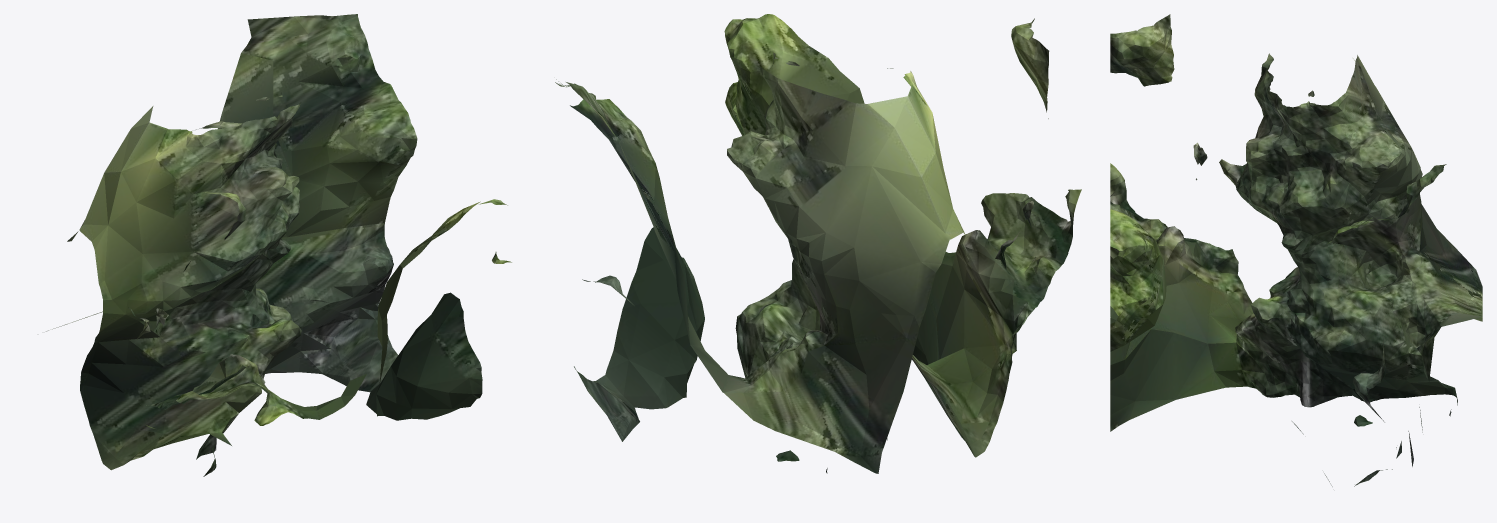
3 views of the same model, side by side, from view 1: azimuth 30°, elevation 25°; view 2: azimuth 150°, elevation 25°; view 3: azimuth 270°, elevation 25° (orthographic). The views are drawn at different scales.
Bounding box in the file's own units: 26.11 × 26.11 × 26.11.
6 materials, 6 textured.
